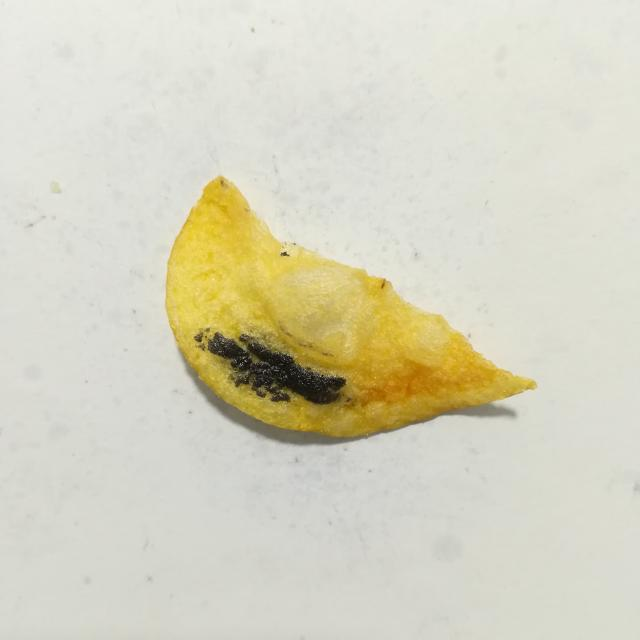chip: (166, 177, 535, 436)
damaged: (208, 332, 346, 404), (194, 332, 203, 342), (280, 251, 289, 257), (199, 343, 205, 351), (205, 327, 210, 331)
